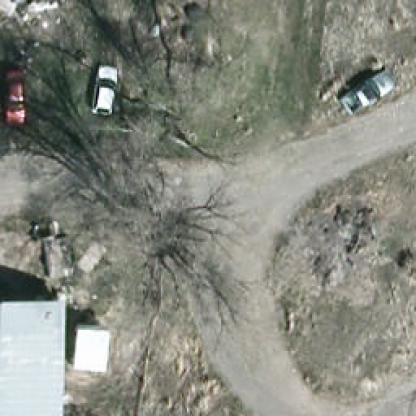car: (0, 70, 26, 125), (92, 66, 116, 118)
other: (335, 70, 398, 117)
